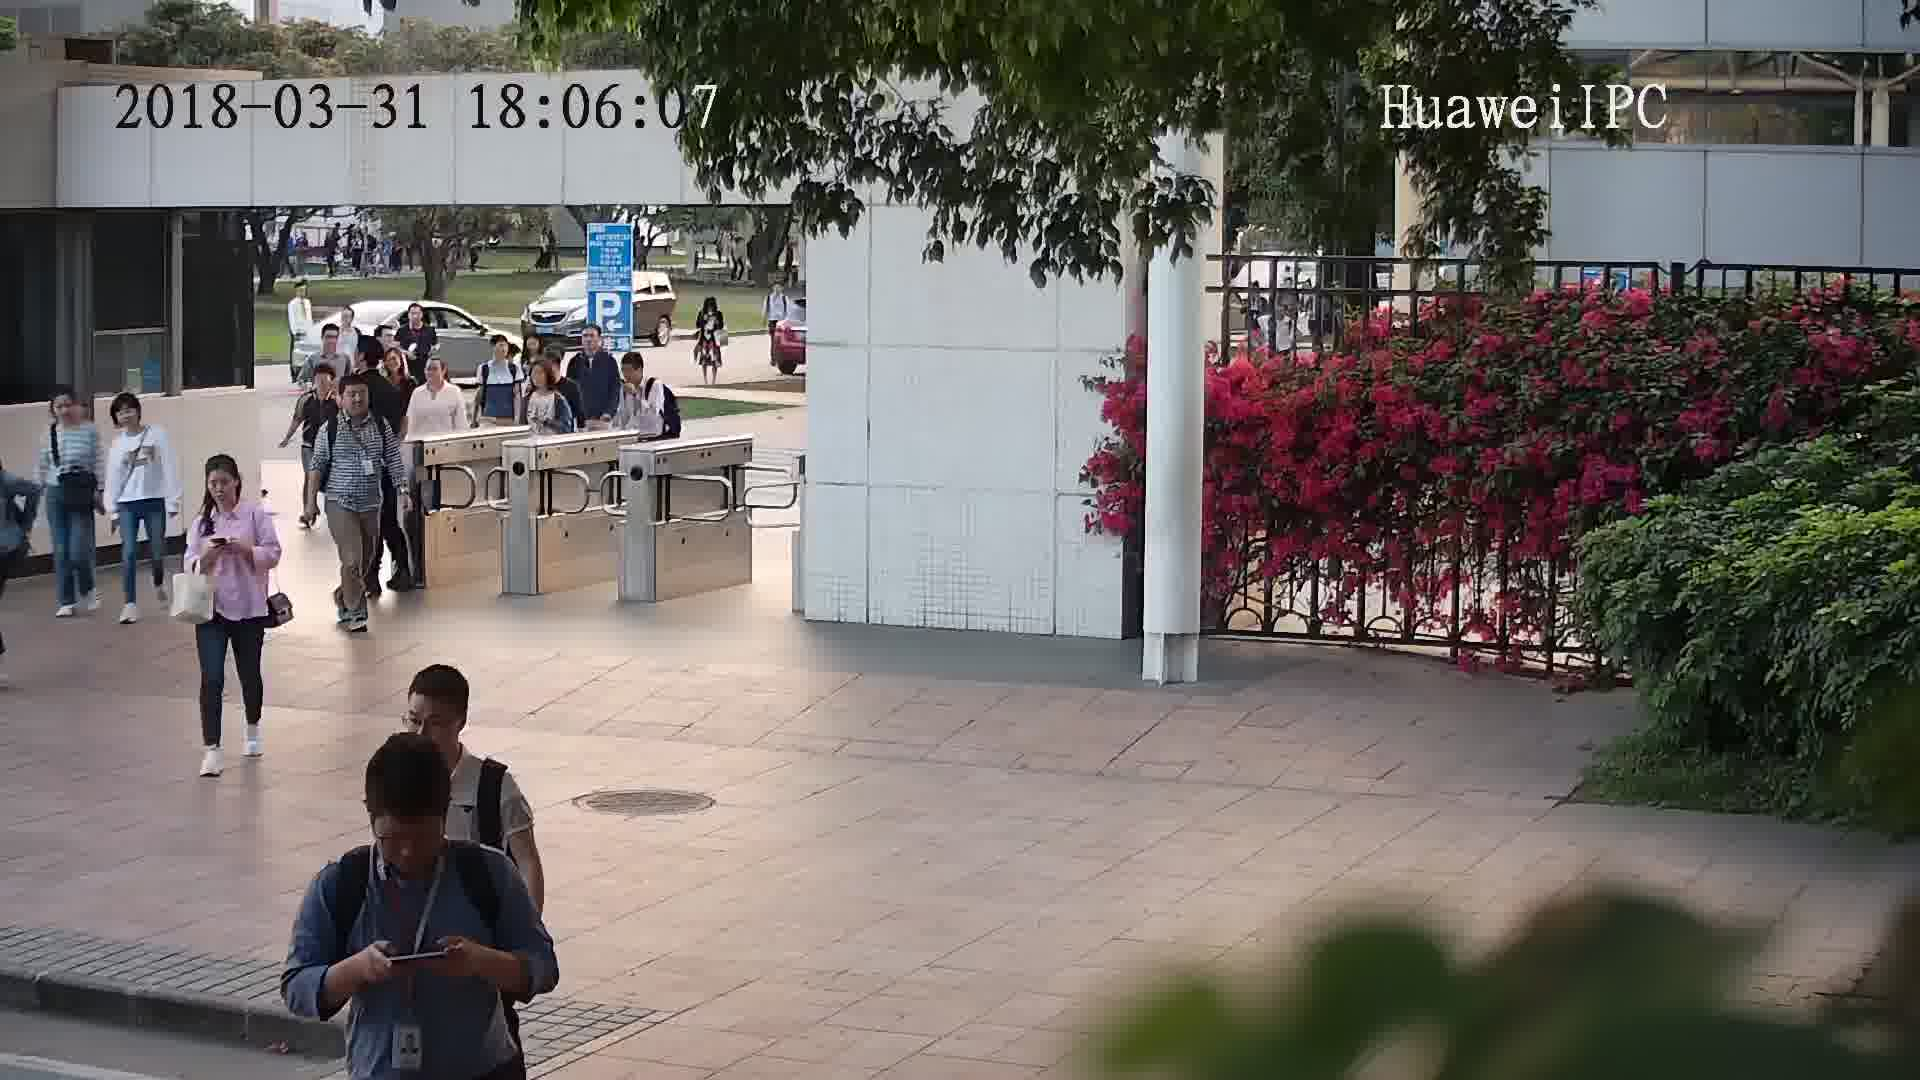face: (370, 803, 442, 875), (200, 467, 240, 510)
person: (304, 737, 520, 906), (376, 663, 518, 799), (194, 452, 273, 531), (326, 375, 391, 437), (108, 390, 169, 451), (43, 387, 102, 447), (344, 334, 399, 396), (409, 355, 461, 408), (297, 359, 342, 412), (619, 351, 666, 399), (305, 319, 351, 369), (572, 322, 617, 368), (525, 357, 568, 405), (399, 301, 440, 340), (481, 332, 513, 368), (520, 331, 550, 364), (287, 275, 314, 312), (760, 282, 791, 305), (701, 295, 723, 320)
